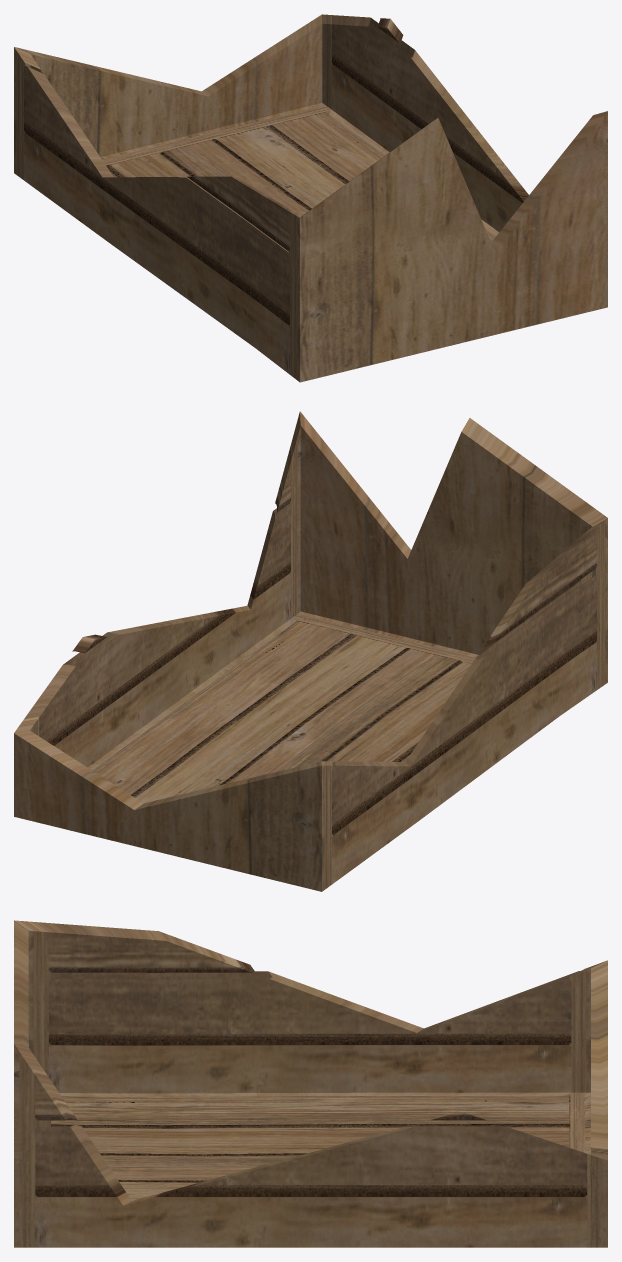
Rendered from CrateBroken.fbx.
The picture shows the model from 3 angles, top to bottom: view 1: azimuth 30°, elevation 25°; view 2: azimuth 150°, elevation 25°; view 3: azimuth 270°, elevation 25°; orthographic projection. The views are drawn at different scales.
Parts seen in each view (by area): view 1: CrateBroken; view 2: CrateBroken; view 3: CrateBroken.
Part boxes in pixels (x1,y1,x2,y2): CrateBroken: (14,14,607,382); CrateBroken: (14,411,607,891); CrateBroken: (14,920,607,1247).
Bounding box in the file's own units: 206 × 147 × 331.
